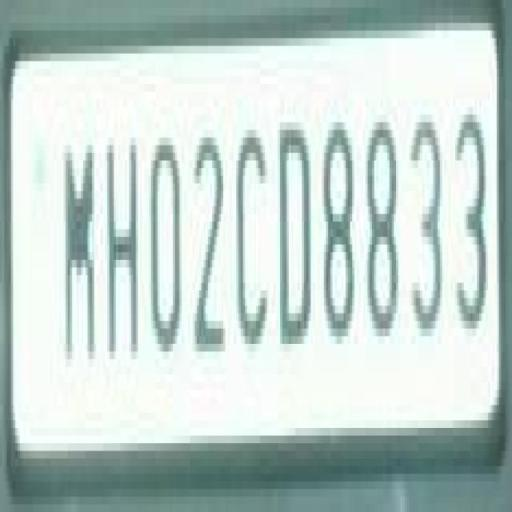number plate: (2, 8, 488, 474)
